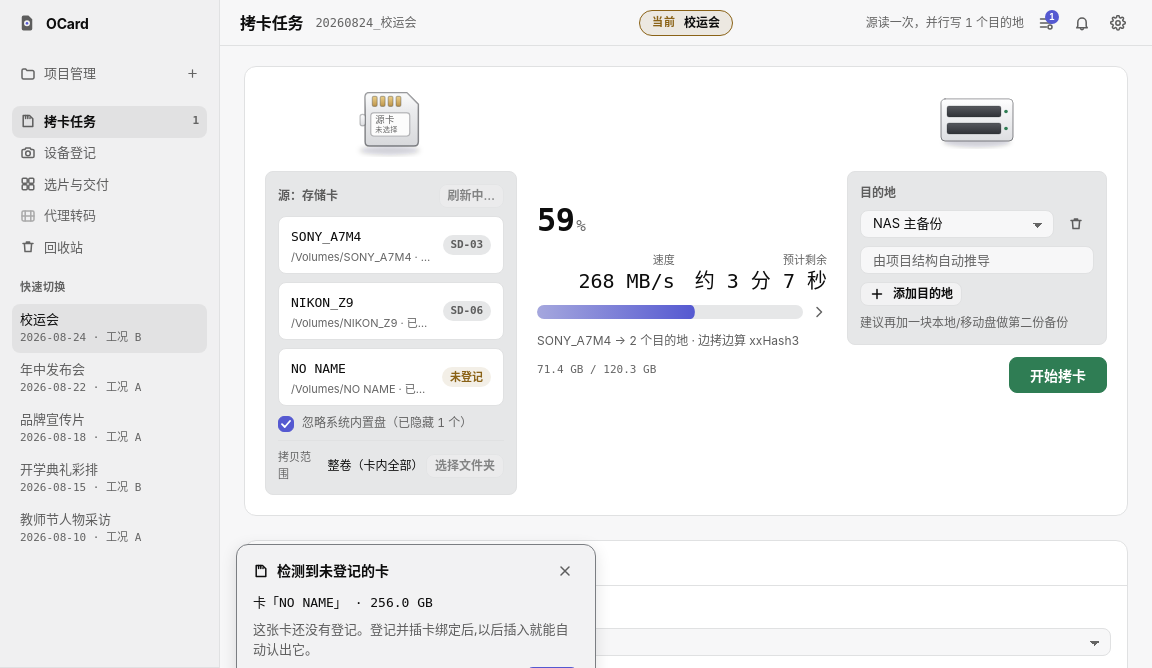
快捷拷卡引导 › 一次只提示队首一张;处理完自动轮到下一张
The width and height of the screenshot is (1152, 668).
Expected: the element with test id "quick-copy-prompt" shows "NO NAME", [279,594,334,610]
Click the button with test id "qc-ignore".
click(565, 570)  # box [551,556,579,584]
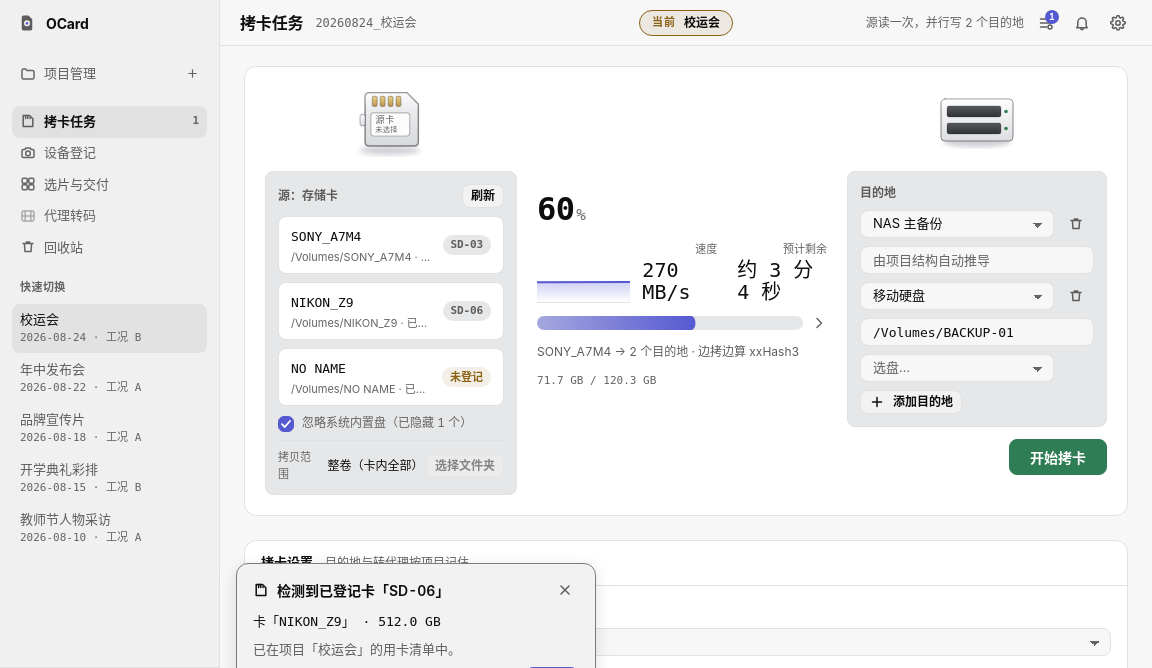
Now the element with test id "quick-copy-prompt" shows "SD-06", box [277,582,449,598]
